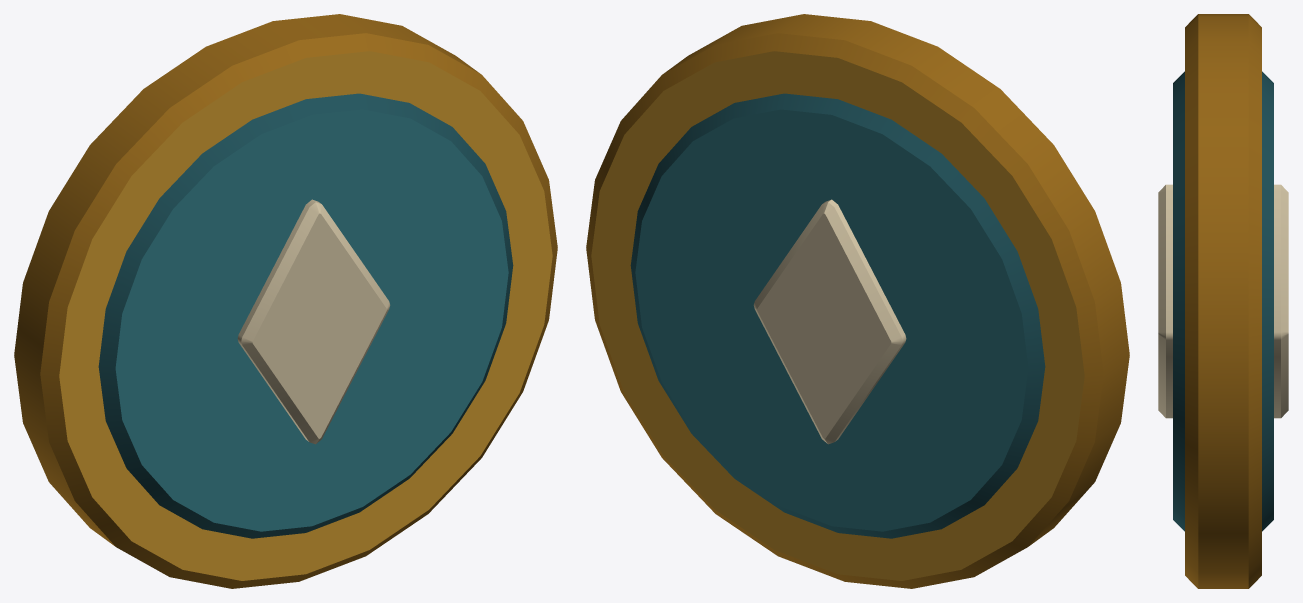
The model's file is Badge_24.glb.
3 renders of one model, left to right at view 1: azimuth 30°, elevation 25°; view 2: azimuth 150°, elevation 25°; view 3: azimuth 270°, elevation 25°, orthographic. The views are drawn at different scales.
Visible parts, largest first — view 1: Badge_24; view 2: Badge_24; view 3: Badge_24.
Part boxes in pixels (bbox=[...]): Badge_24: bbox=[14, 14, 557, 588]; Badge_24: bbox=[586, 14, 1129, 588]; Badge_24: bbox=[1158, 14, 1288, 588].
Bounding box in the file's own units: 1.95 × 1.95 × 0.44.
